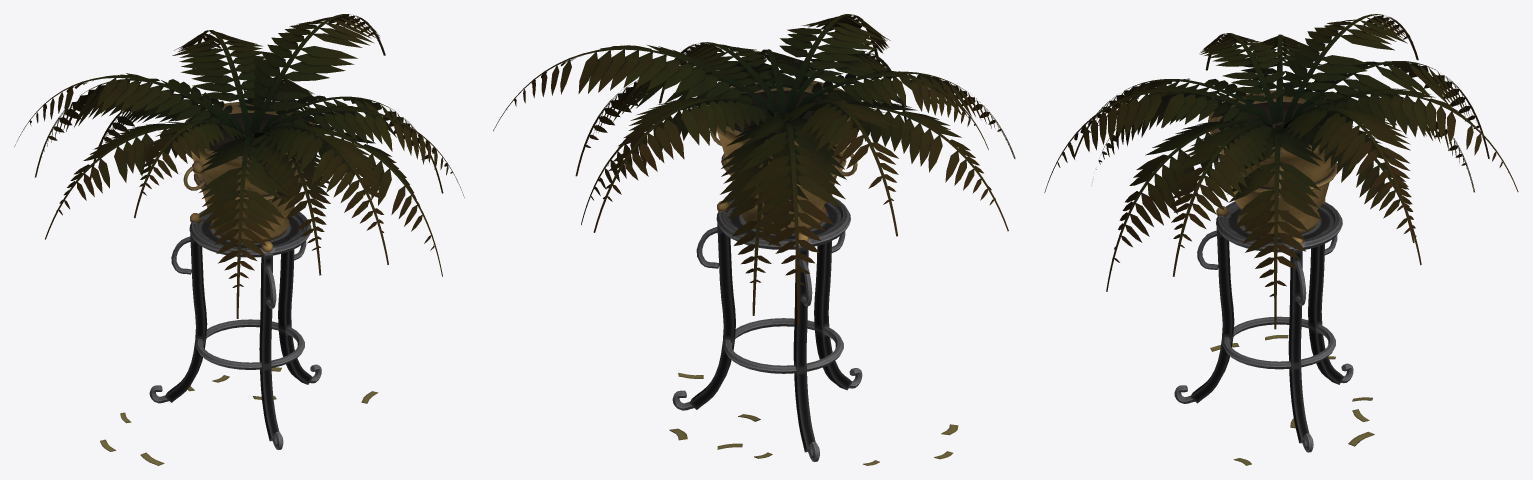
Rendered from DormPlantWilting.fbx.
The picture shows the model from 3 angles, left to right: view 1: azimuth 30°, elevation 25°; view 2: azimuth 150°, elevation 25°; view 3: azimuth 270°, elevation 25°; orthographic projection. The views are drawn at different scales.
Parts seen in each view (by area): view 1: DormPlantWilting; view 2: DormPlantWilting; view 3: DormPlantWilting.
Boxes of the visible parts, x1,y1,x2,y2 form: DormPlantWilting: (14, 14, 464, 465); DormPlantWilting: (493, 14, 1015, 465); DormPlantWilting: (1044, 14, 1518, 465).
Size of the model in its own units: 347 by 276 by 339.
